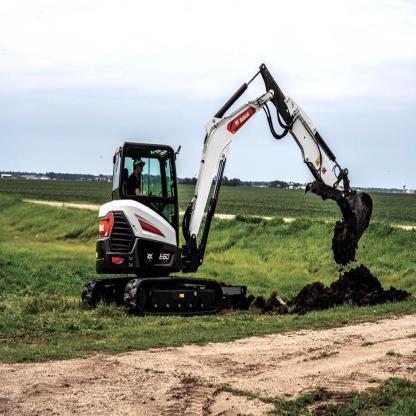excavator: (80, 66, 379, 319)
